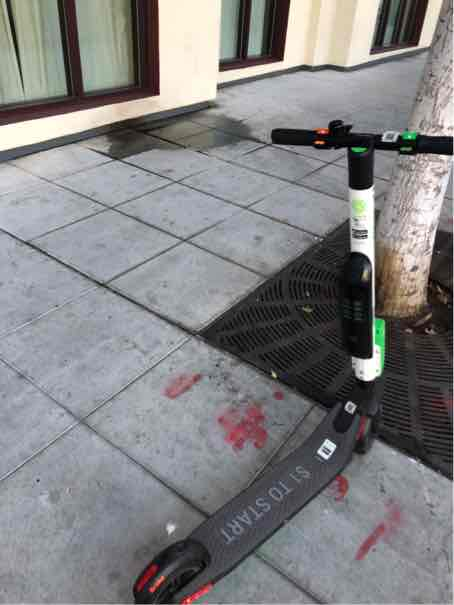scooter: (122, 118, 454, 603)
